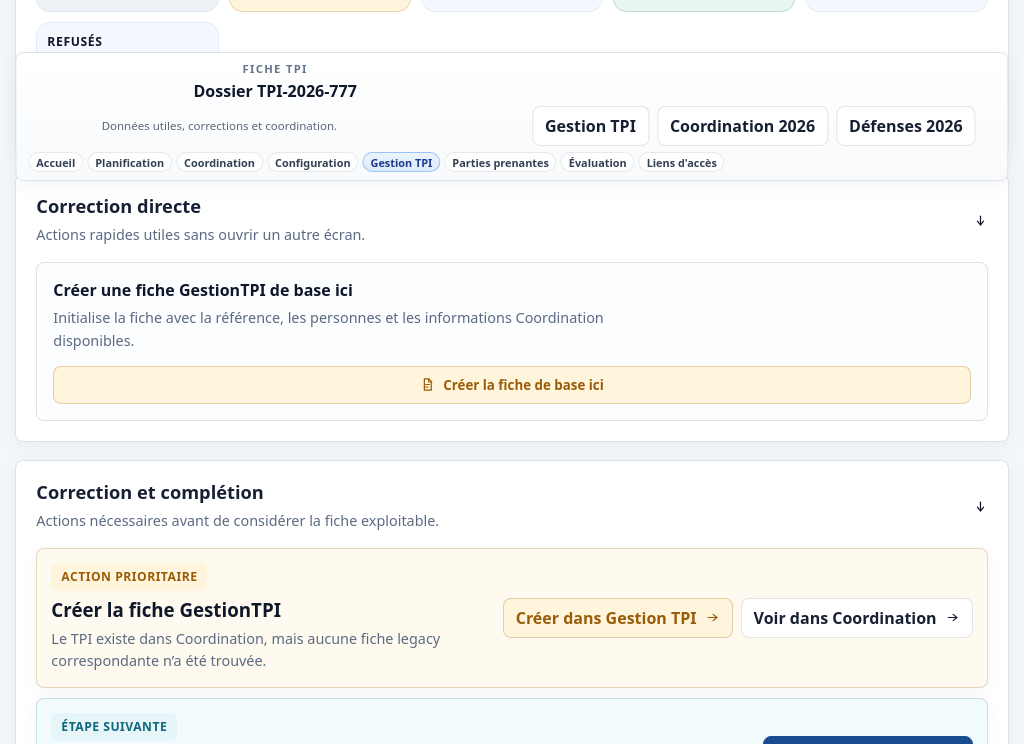
Scenario: TpiDetailPage › permet de créer directement une fiche legacy de base depuis la fiche détail
(page scrolled)
Click the button "Créer la fiche de base ici": [512, 385] box [53,366,971,404]
(page scrolled)
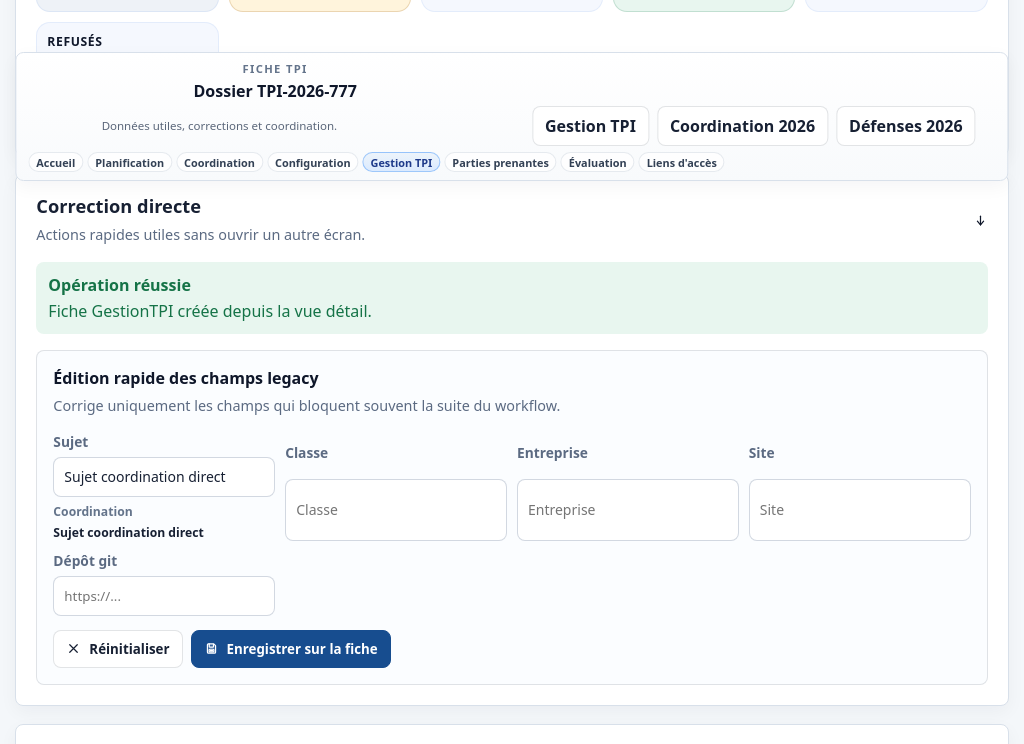
Now the text "Fiche GestionTPI créée depuis la vue détail." is shown, box [48,300,372,322]
